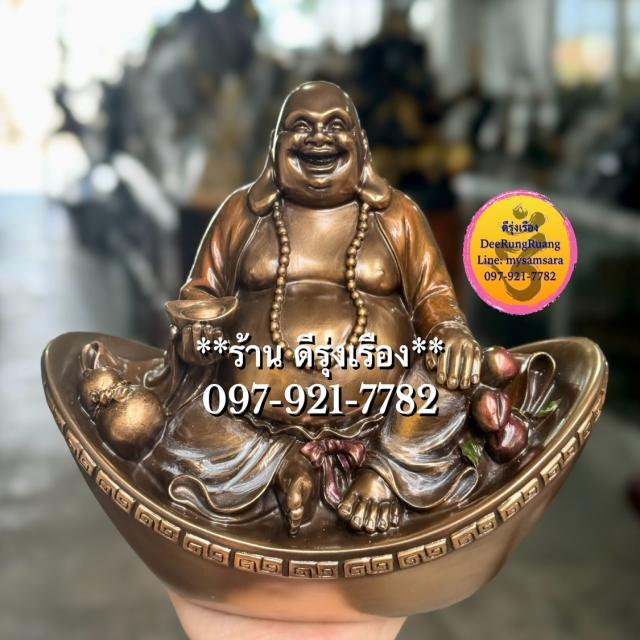Smiling Buddha: (172, 79, 473, 432)
